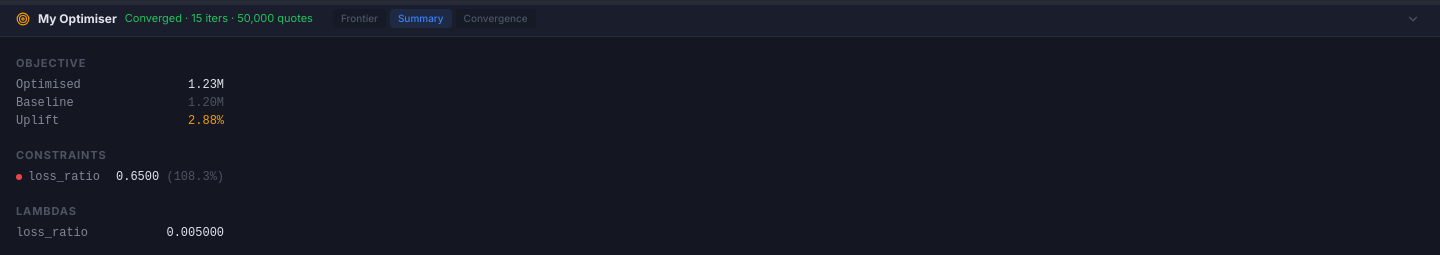
OptimiserPreview › tab switching › switches to Convergence tab on click
What coordinates should you click on to do the following:
click the button "Convergence"
I would click on:
 (496, 18)
Its box is [456,9,536,28].
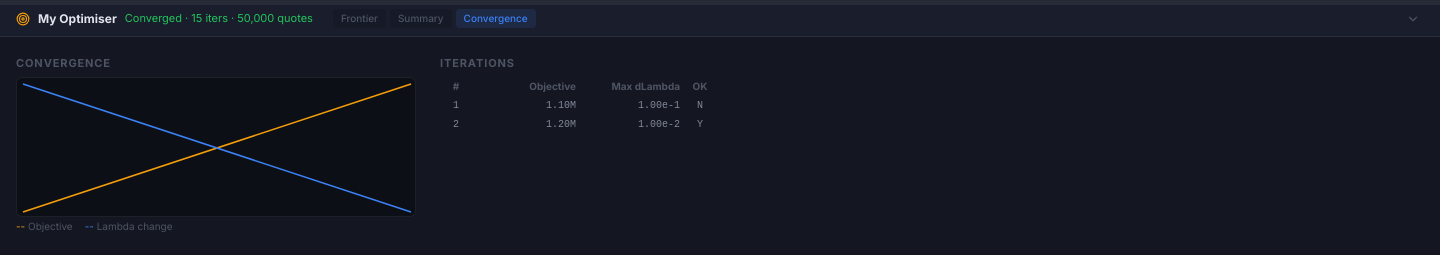
Expected: the text "Iterations" is shown, [440,56,515,70]
